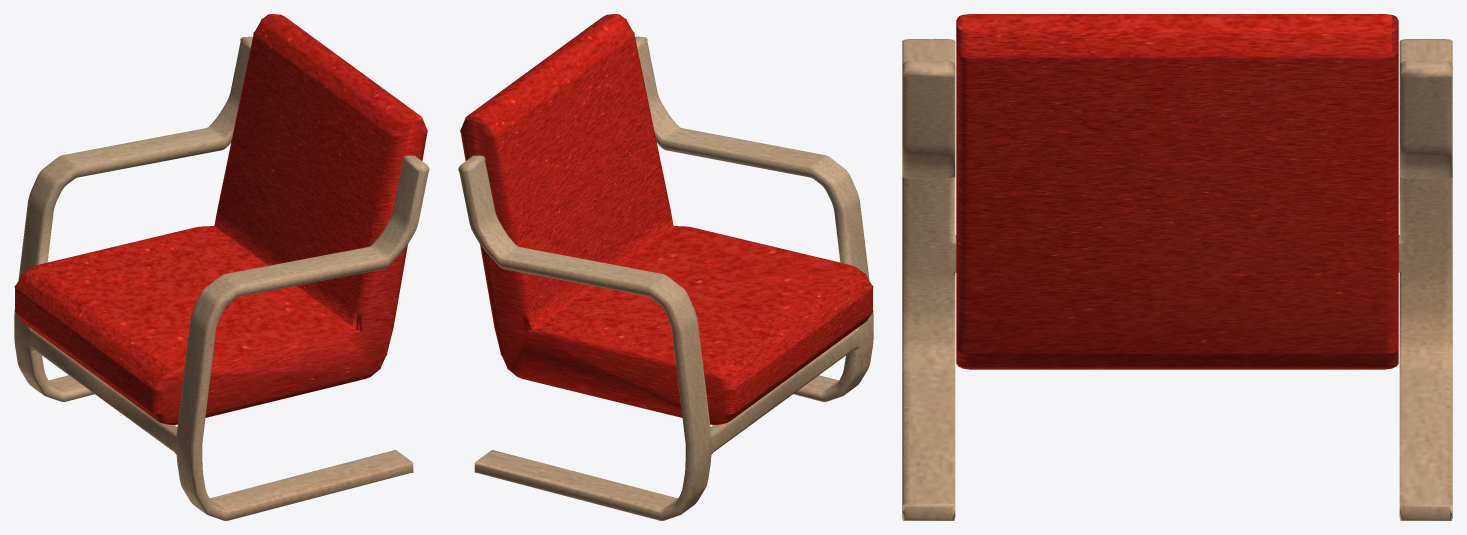
Rendered from ArmchairMk2.fbx.
3 views of the same model, side by side, from view 1: azimuth 30°, elevation 25°; view 2: azimuth 150°, elevation 25°; view 3: azimuth 270°, elevation 25° (orthographic). The views are drawn at different scales.
Visible parts, largest first — view 1: ArmchairMk2; view 2: ArmchairMk2; view 3: ArmchairMk2.
Part boxes in pixels (left/top/right/bottom): ArmchairMk2: left=14, top=14, right=429, bottom=520; ArmchairMk2: left=458, top=14, right=873, bottom=520; ArmchairMk2: left=902, top=14, right=1452, bottom=520.
Bounding box in the file's own units: 202 × 241 × 229.
